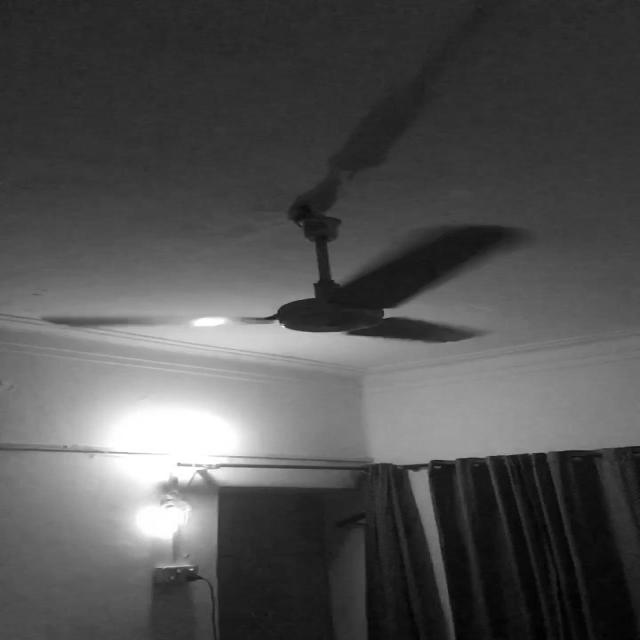fan: (41, 208, 530, 343)
